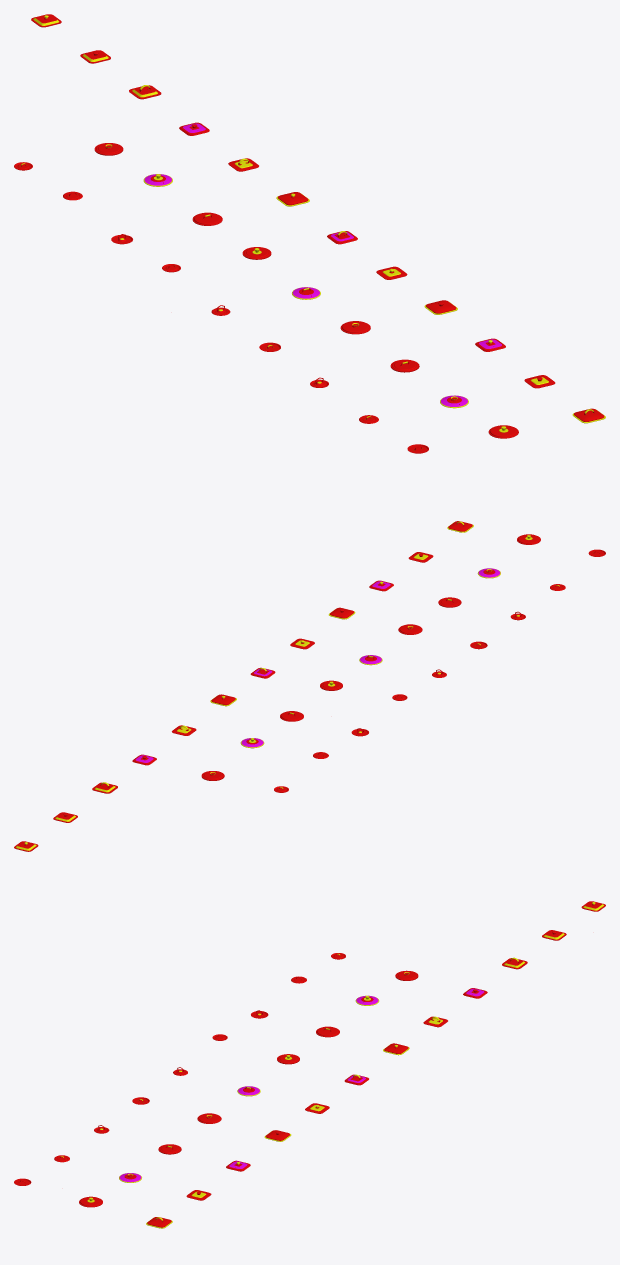
Rendered from pot_lids_grp.fbx.
3 renders of one model, top to bottom at view 1: azimuth 30°, elevation 25°; view 2: azimuth 150°, elevation 25°; view 3: azimuth 330°, elevation 25°, orthographic. The views are drawn at different scales.
Size of the model in its own units: 225 by 53.07 by 1128.
